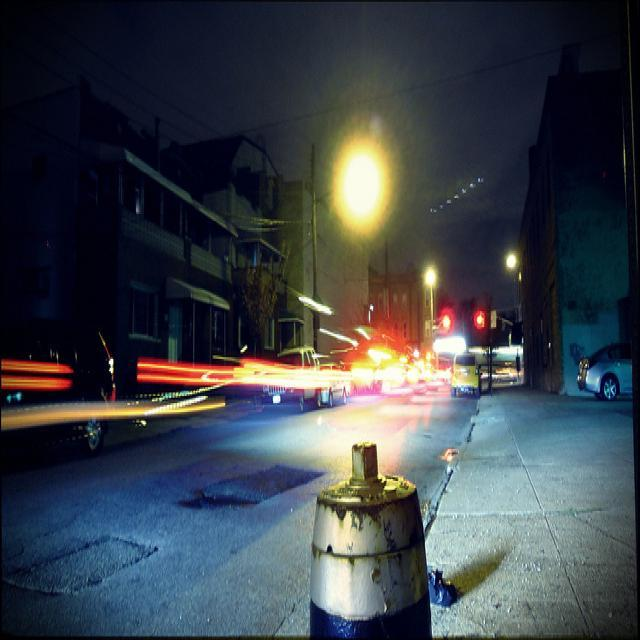fire_hydrant: (305, 444, 436, 626)
